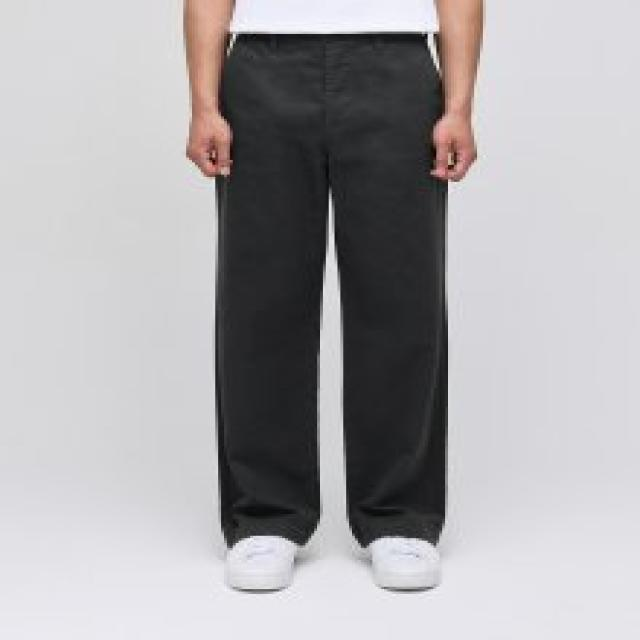long-pants: (218, 31, 451, 550)
